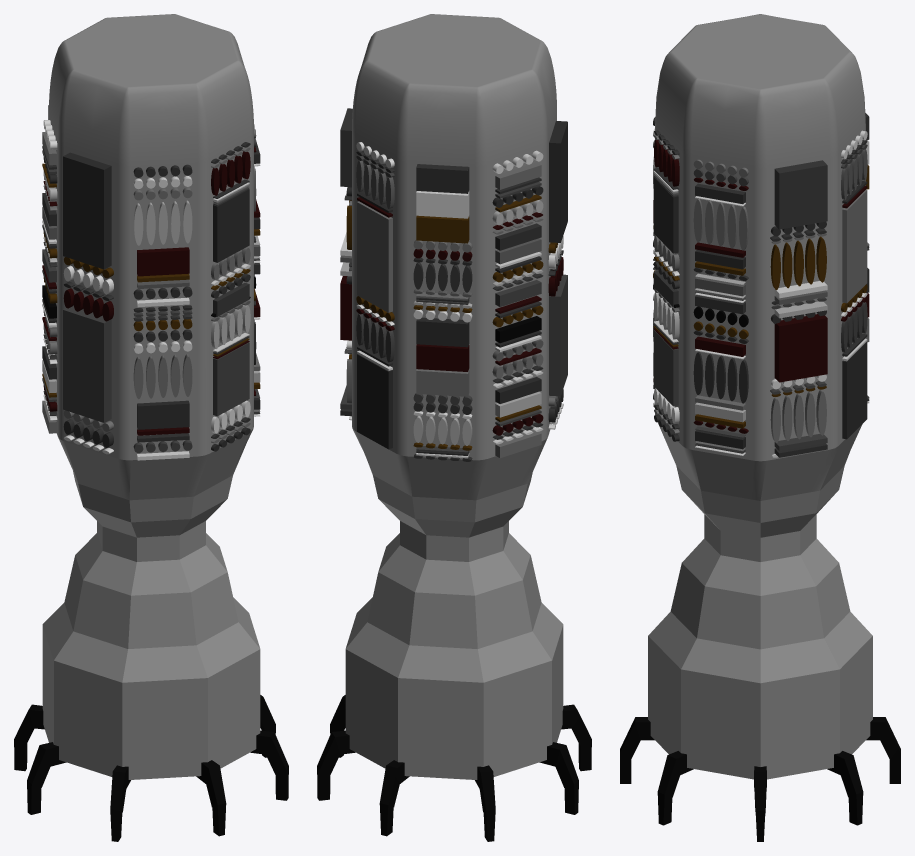
The model's file is SpaceObjects1.3.fbx.
The picture shows the model from 3 angles, left to right: view 1: azimuth 30°, elevation 25°; view 2: azimuth 150°, elevation 25°; view 3: azimuth 270°, elevation 25°; orthographic projection.
Visible parts, largest first — view 1: body1, Feet, Object_561, Object_24, Object_556, Object_27, Object_53, Object_525, Object_262; view 2: body1, Feet, Object_558, Object_12, Object_561, Object_24, Object_559, Object_26, Object_435, Object_436, Object_119, Object_120 (+10 smaller); view 3: body1, Feet, Object_562, Object_23, Object_558, Object_12, Object_556, Object_27, Object_308, Object_221, Object_320, Object_214 (+6 smaller).
Boxes of the visible parts, bbox=[...] form: body1: bbox=[42, 14, 260, 779]; Feet: bbox=[14, 695, 288, 841]; Object_561: bbox=[63, 152, 111, 269]; Object_24: bbox=[63, 306, 111, 422]; Object_556: bbox=[213, 189, 249, 262]; Object_27: bbox=[213, 342, 249, 416]; Object_53: bbox=[137, 400, 189, 429]; Object_525: bbox=[137, 247, 189, 276]; Object_262: bbox=[213, 282, 249, 316]; body1: bbox=[345, 14, 563, 779]; Feet: bbox=[317, 695, 591, 841]; Object_558: bbox=[357, 201, 392, 312]; Object_12: bbox=[357, 354, 392, 449]; Object_561: bbox=[549, 121, 567, 242]; Object_24: bbox=[549, 274, 567, 396]; Object_559: bbox=[416, 164, 469, 193]; Object_26: bbox=[416, 317, 469, 347]; Object_435: bbox=[416, 215, 469, 243]; Object_436: bbox=[416, 191, 469, 218]; Object_119: bbox=[416, 344, 469, 371]; Object_120: bbox=[416, 369, 469, 396]; body1: bbox=[648, 14, 872, 779]; Feet: bbox=[620, 717, 900, 841]; Object_562: bbox=[774, 160, 827, 229]; Object_23: bbox=[774, 314, 827, 382]; Object_558: bbox=[842, 190, 867, 303]; Object_12: bbox=[842, 341, 867, 439]; Object_556: bbox=[653, 177, 678, 253]; Object_27: bbox=[653, 330, 678, 406]; Object_308: bbox=[695, 183, 745, 204]; Object_221: bbox=[695, 336, 745, 356]; Object_320: bbox=[695, 249, 745, 269]; Object_214: bbox=[695, 402, 745, 422].
Bounding box in the file's own units: 1133 × 3252 × 1133.
